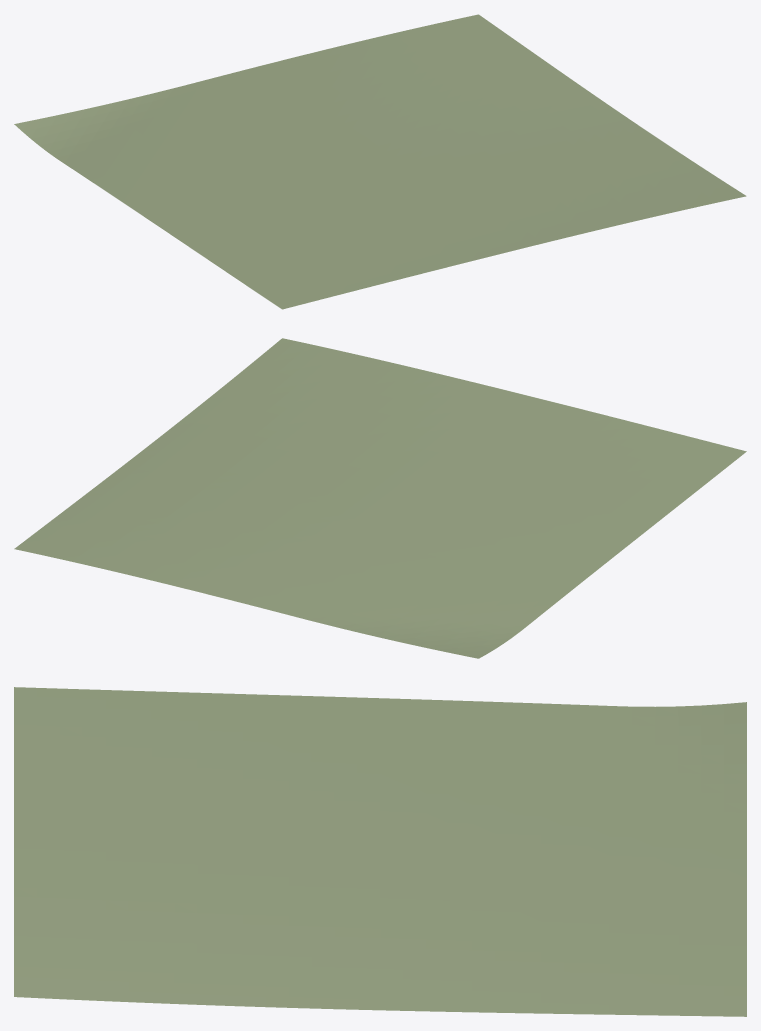
The model's file is expanse-22-10.glb.
3 views of the same model, one above another, from view 1: azimuth 30°, elevation 25°; view 2: azimuth 150°, elevation 25°; view 3: azimuth 270°, elevation 25° (orthographic). The views are drawn at different scales.
Parts seen in each view (by area): view 1: expanse-22-10; view 2: expanse-22-10; view 3: expanse-22-10.
Boxes of the visible parts, bbox=[...] form: expanse-22-10: bbox=[14, 14, 746, 309]; expanse-22-10: bbox=[14, 338, 746, 658]; expanse-22-10: bbox=[14, 687, 746, 1016].
Bounding box in the file's own units: 256 × 9.02 × 256.
